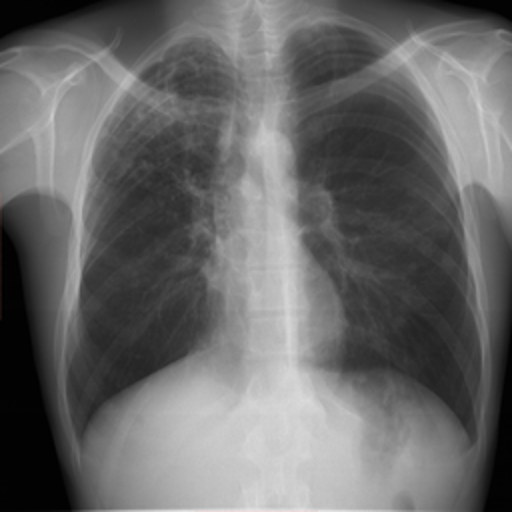TB: (123, 65, 197, 168)
